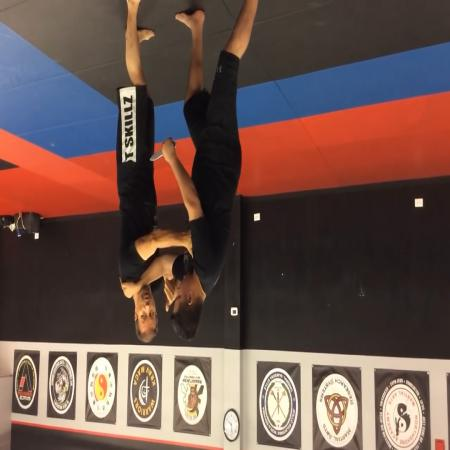long weapon: (149, 136, 178, 166)
